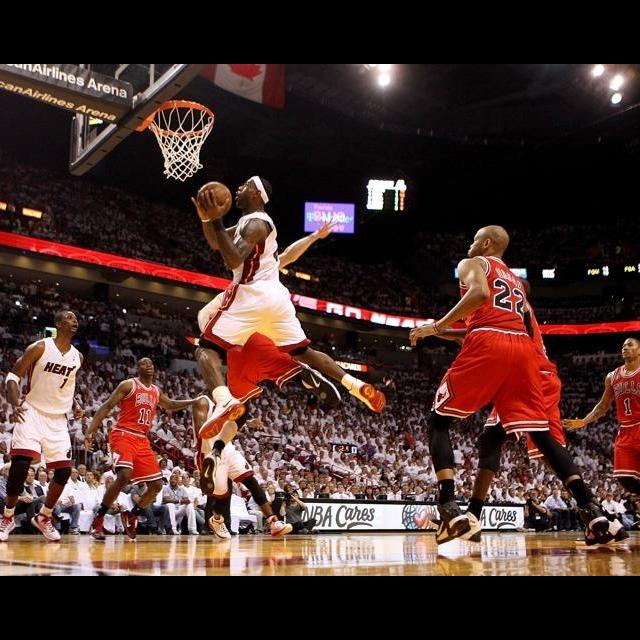basketball: (194, 181, 232, 220)
hoop: (146, 98, 214, 181)
